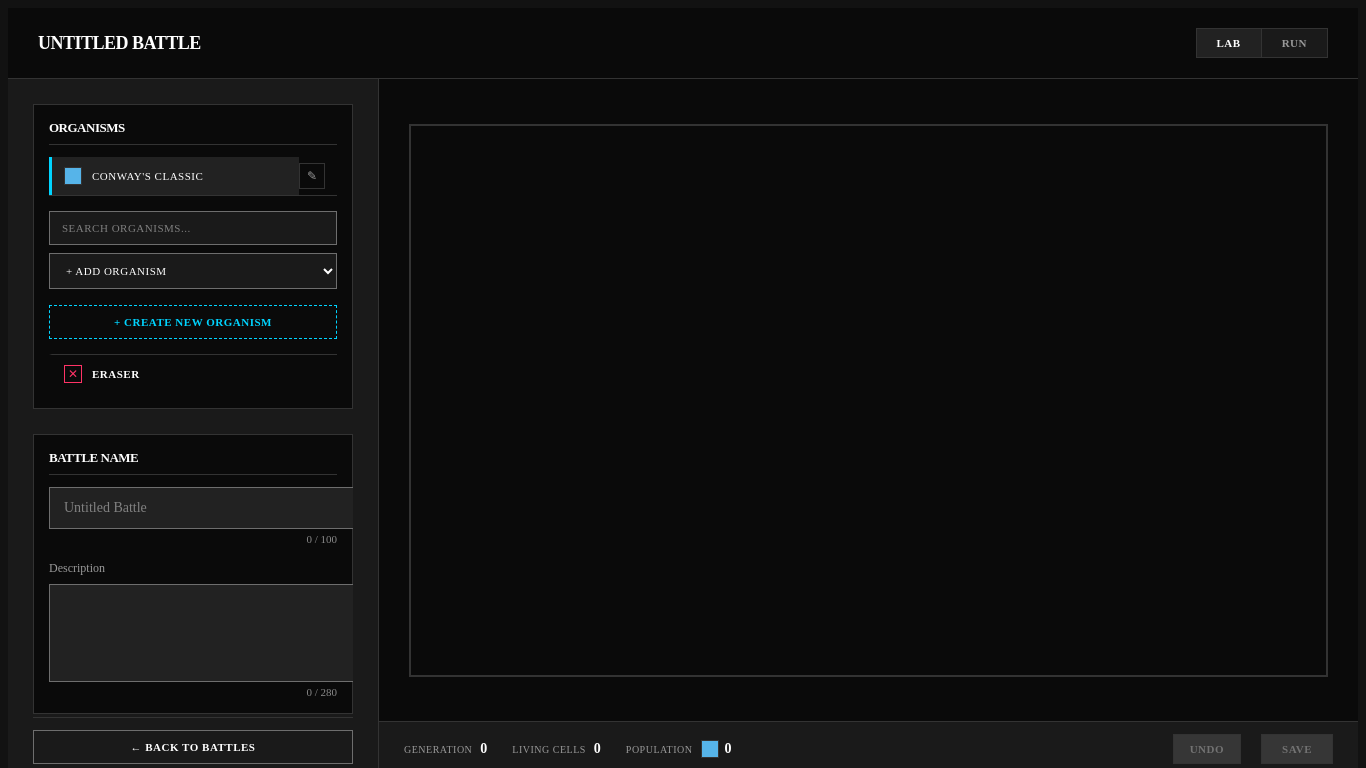
BattlePage — undo wiring (Story 2.8) › drives the UNDO button’s disabled state through the whole cycle (AC5)
Check: the heading "Untitled Battle" is shown, box [38,32,201,54]
Check: the button "Undo" is disabled, box [1173,734,1241,764]
Press the mouse on the picture named "Petri dish, 100 by 60 cells" at x=868, y=400, box [411,126,1326,674]
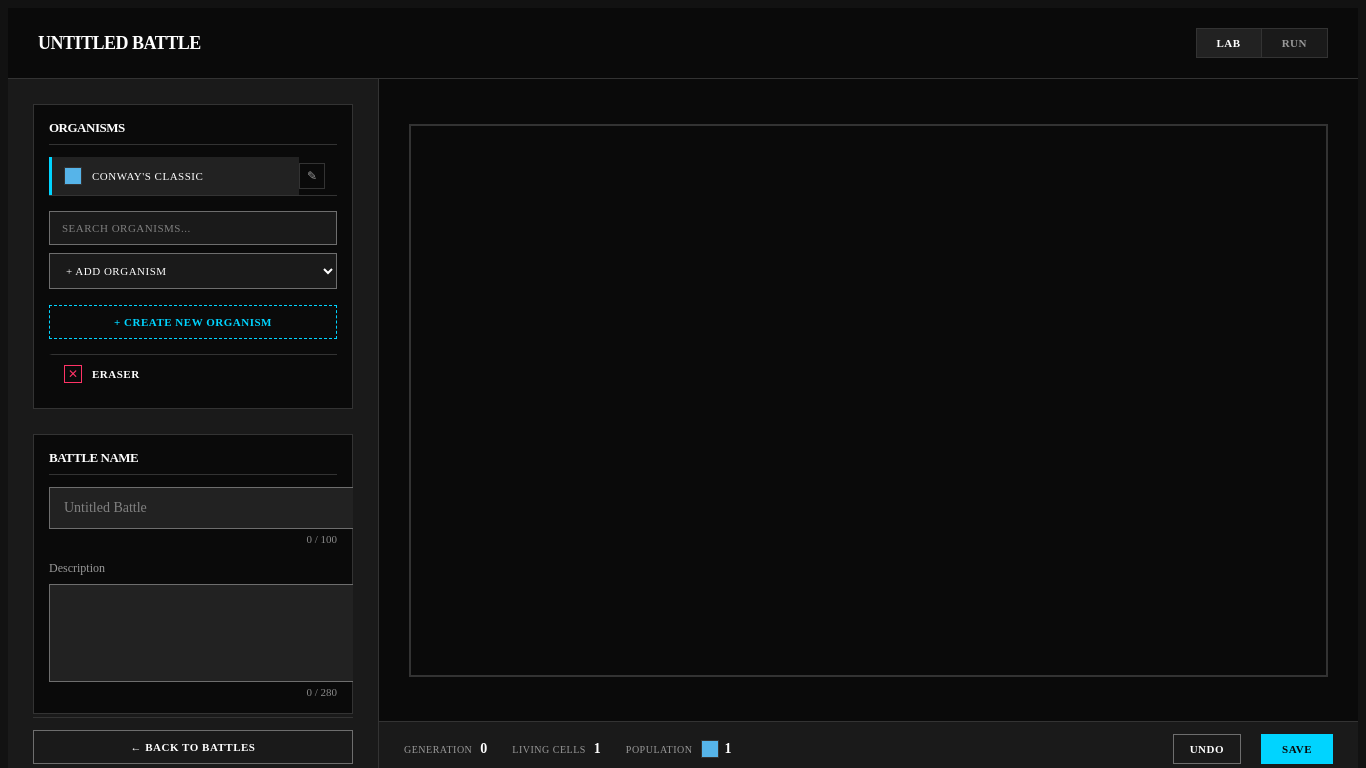
Check: the button "Undo" is enabled
Click the button "Undo" at x=1207, y=749, box [1173,734,1241,764]
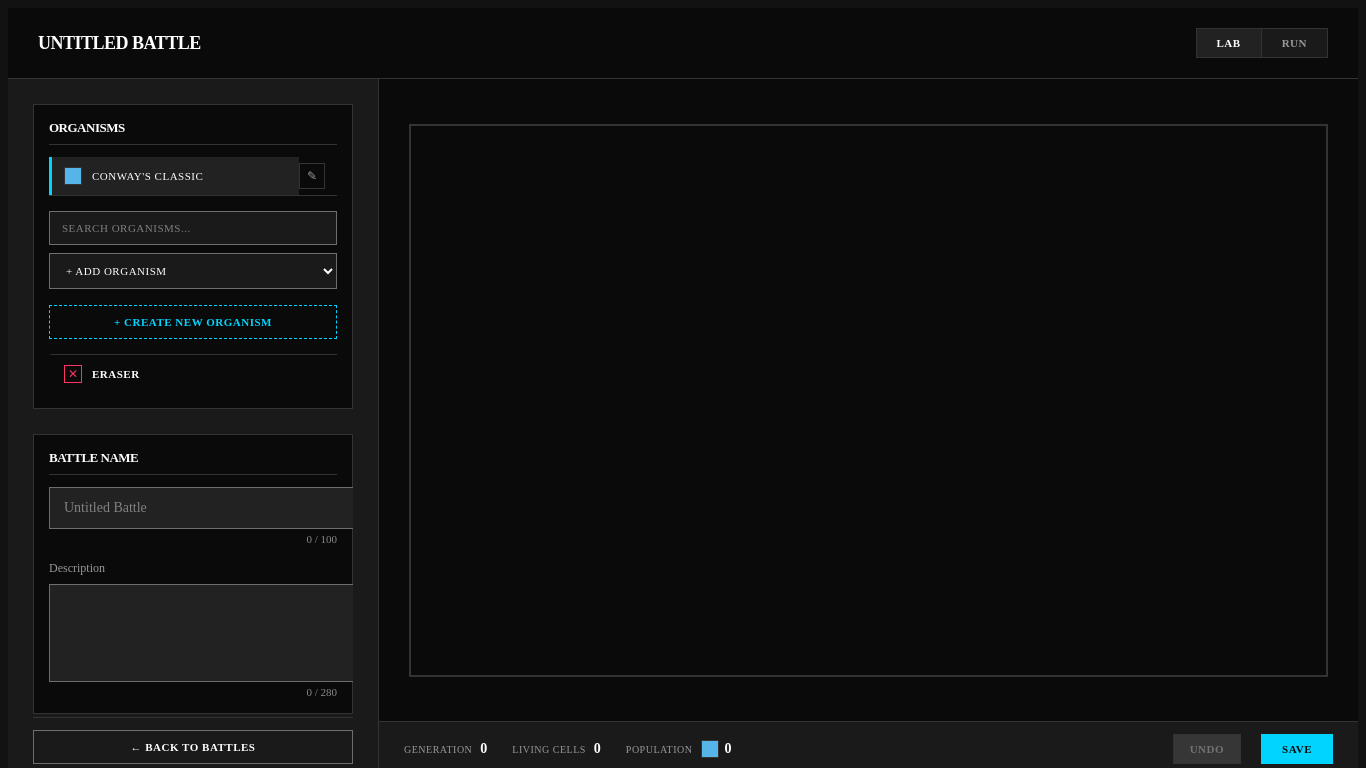
Check: the button "Undo" is disabled, box [1173,734,1241,764]
